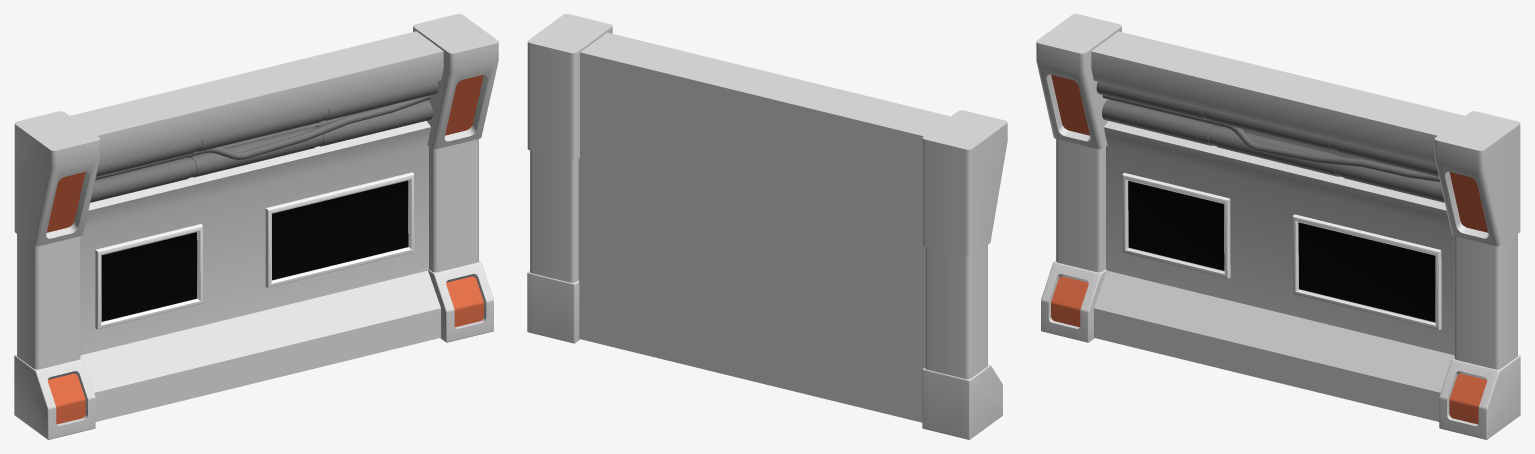
The model's file is wall1-2.glb.
3 views of the same model, side by side, from view 1: azimuth 30°, elevation 25°; view 2: azimuth 150°, elevation 25°; view 3: azimuth 330°, elevation 25° (orthographic).
Parts seen in each view (by area): view 1: Cube.005, Cube, Cube.001, Cube.002, pipeline.002, pipeline.001, pipeline; view 2: Cube.005, Cube; view 3: Cube.005, Cube, Cube.001, Cube.002, pipeline.002, pipeline.001, pipeline.
Boxes of the visible parts, x1,y1,x2,y2 form: Cube.005: (70, 31, 443, 421); Cube: (14, 14, 498, 439); Cube.001: (265, 172, 414, 287); Cube.002: (95, 224, 202, 329); pipeline.002: (90, 100, 432, 202); pipeline.001: (96, 81, 438, 176); pipeline: (95, 95, 431, 179); Cube.005: (578, 32, 950, 422); Cube: (527, 14, 1007, 439); Cube.005: (1091, 31, 1464, 421); Cube: (1036, 14, 1520, 439); Cube.001: (1293, 214, 1441, 329); Cube.002: (1122, 173, 1230, 278); pipeline.002: (1102, 99, 1444, 202); pipeline.001: (1096, 81, 1438, 176); pipeline: (1102, 95, 1439, 181).
Size of the model in its own units: 16.51 by 10.32 by 2.54.
